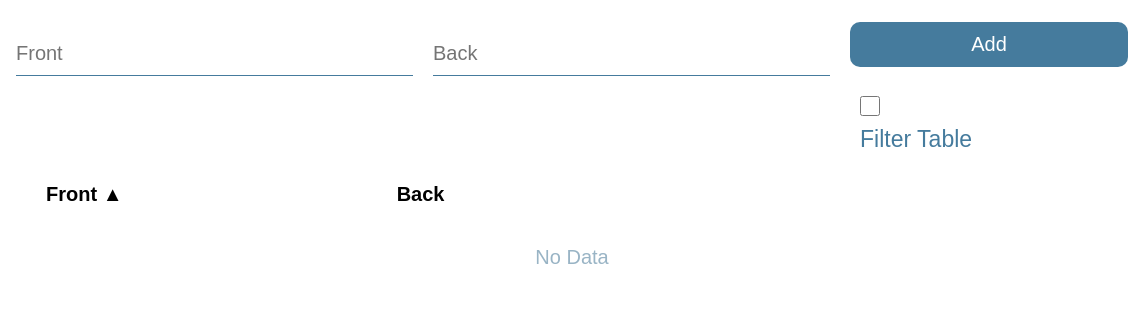
Test: ManageCardsPage Component › handles adding a new card
Type "Card-Front-added" into the field with placeholder "Front" at (214, 44), box [16,12,413,76]
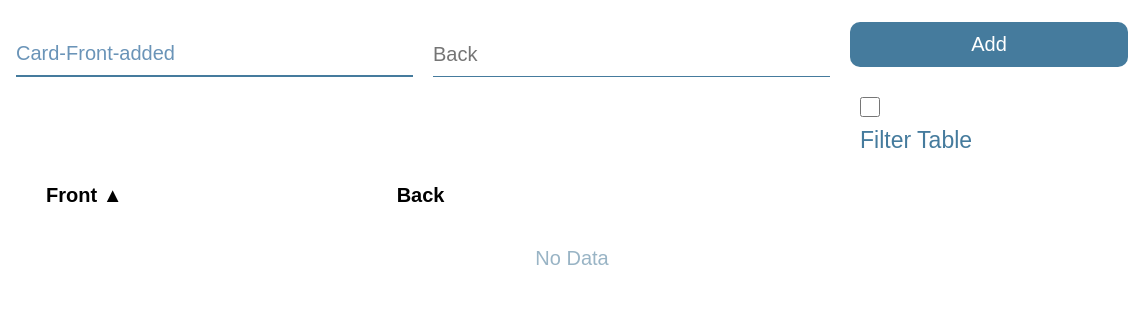
Type "Card-Back-added" into the field with placeholder "Back" at (632, 44), box [433,12,830,76]
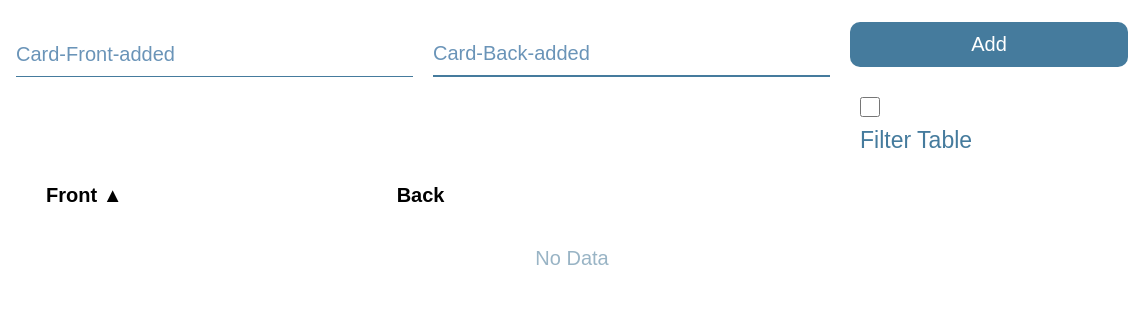
Click the button "Add" at (989, 44), box [850,22,1128,67]
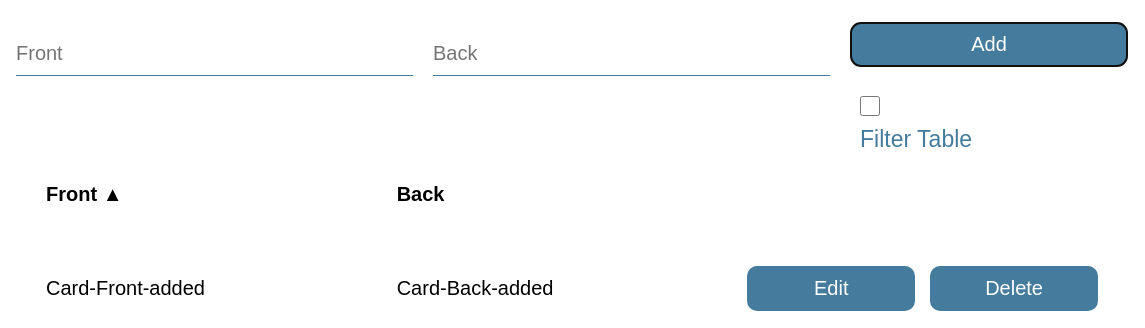
Check: the text "Card-Front-added" is shown, box [46,277,205,299]
